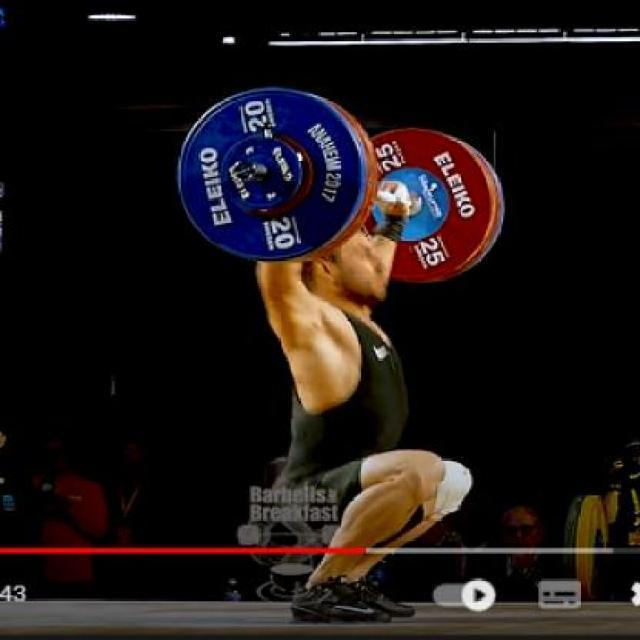barbell: (164, 73, 393, 286)
